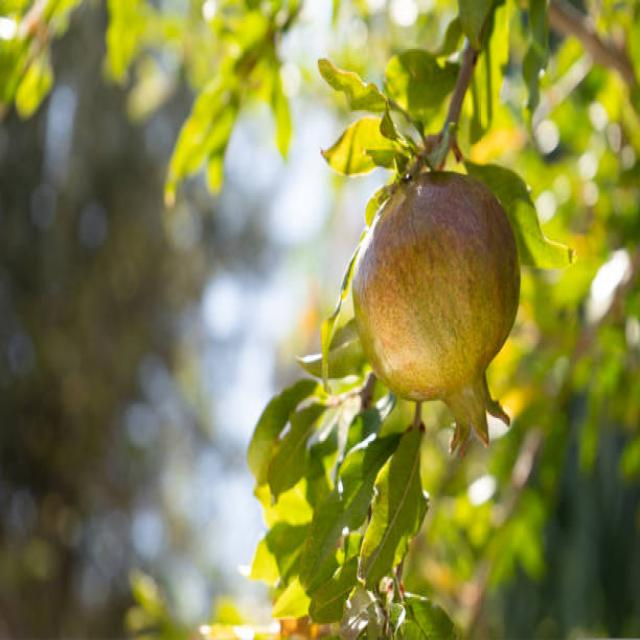Unripe: (351, 165, 521, 456)
